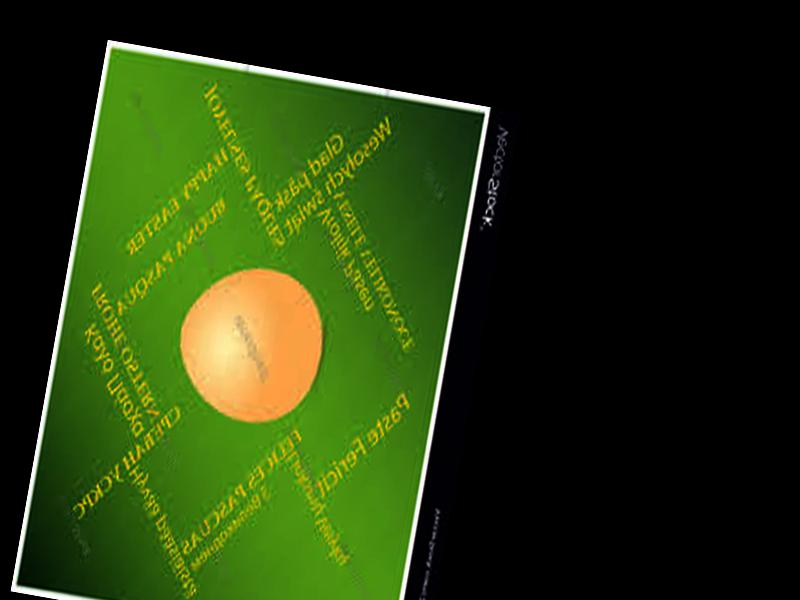Eggs: (171, 258, 332, 433)
